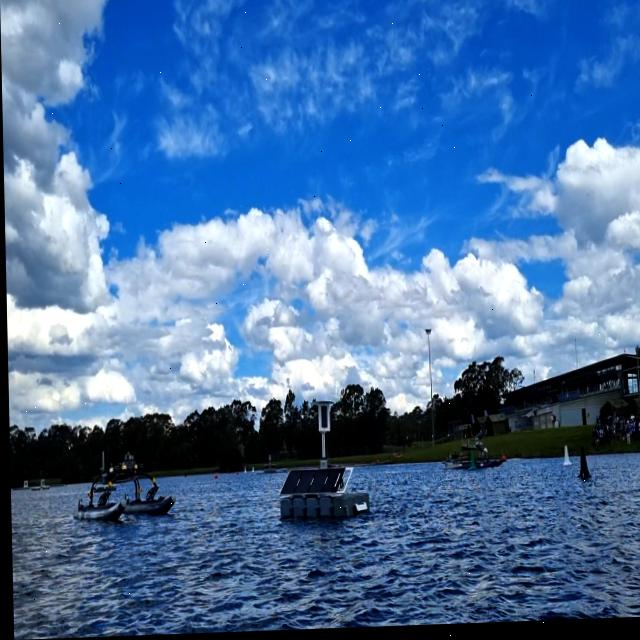led: (317, 407, 328, 433)
